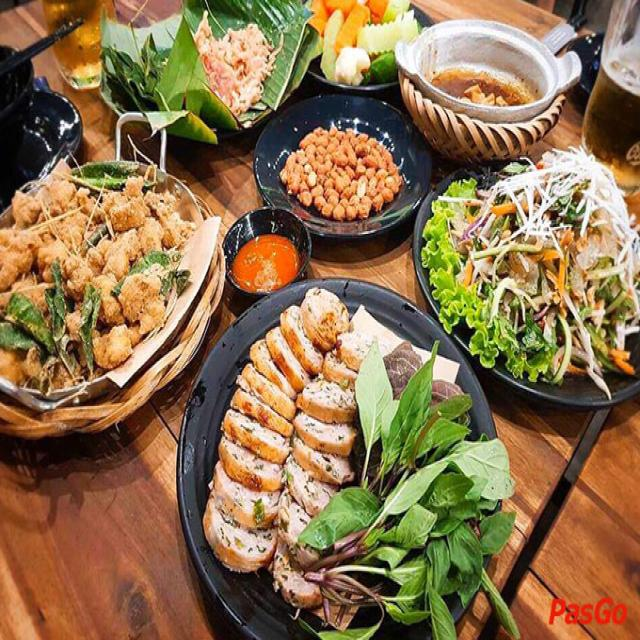cha: (208, 278, 428, 638)
dau phong rang: (274, 124, 406, 228)
goi: (444, 131, 640, 395)
nem ran: (2, 159, 200, 422)
